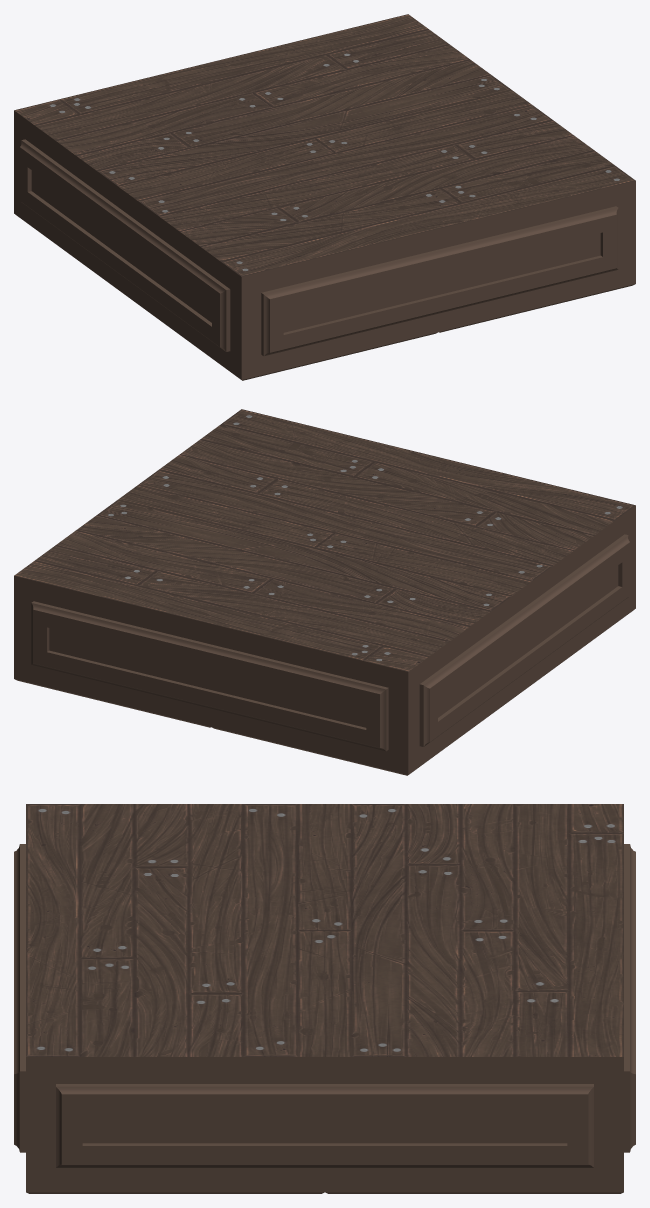
Rendered from MezzanineWalkway_01.FBX.
3 renders of one model, top to bottom at view 1: azimuth 30°, elevation 25°; view 2: azimuth 150°, elevation 25°; view 3: azimuth 270°, elevation 25°, orthographic. The views are drawn at different scales.
Visible parts, largest first — view 1: MezzanineWalkway_01; view 2: MezzanineWalkway_01; view 3: MezzanineWalkway_01.
Boxes of the visible parts, bbox=[...] form: MezzanineWalkway_01: bbox=[14, 14, 635, 380]; MezzanineWalkway_01: bbox=[14, 409, 635, 775]; MezzanineWalkway_01: bbox=[14, 804, 635, 1193].
Bounding box in the file's own units: 2.08 × 0.53 × 2.08.
